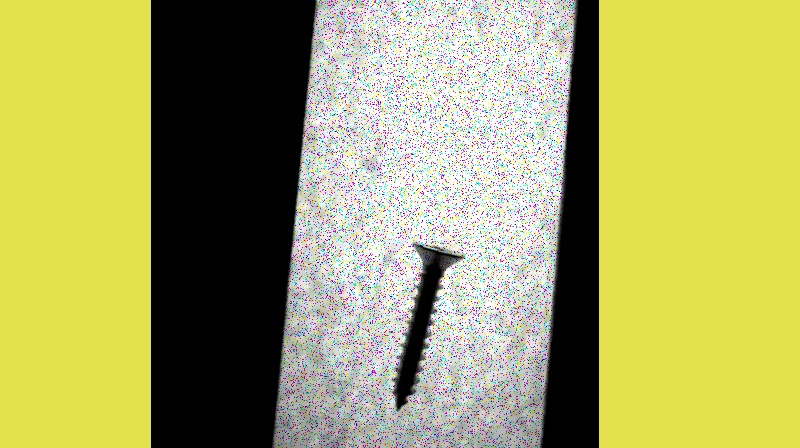S001: (382, 239, 466, 416)
